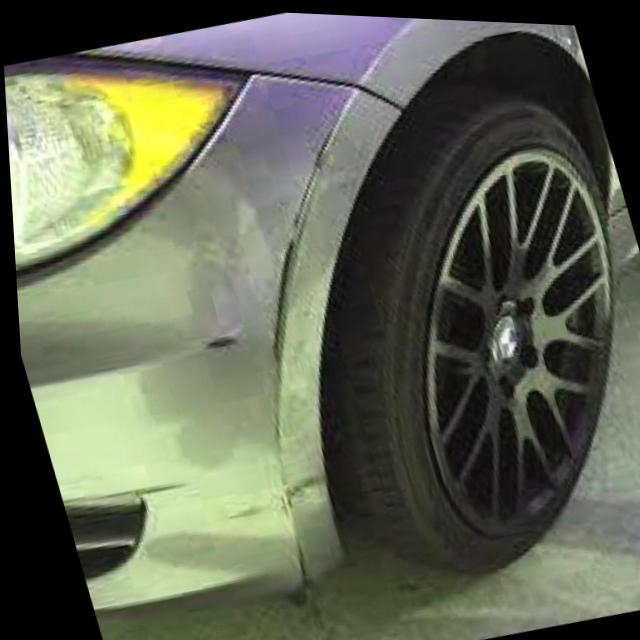Car-Damage: (202, 121, 397, 383), (190, 317, 247, 363)
